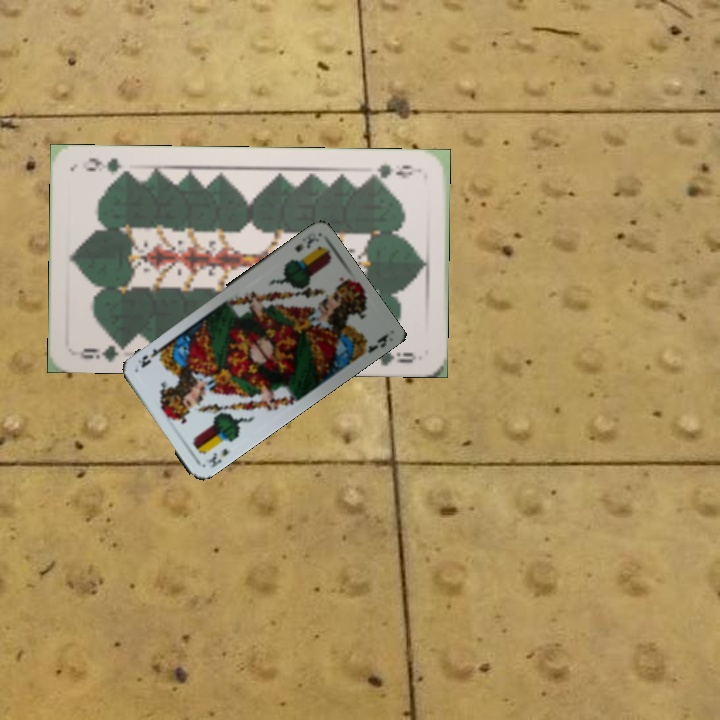EK: (291, 229, 319, 255), (204, 444, 231, 470)
G9: (72, 338, 131, 365), (365, 160, 424, 182)
